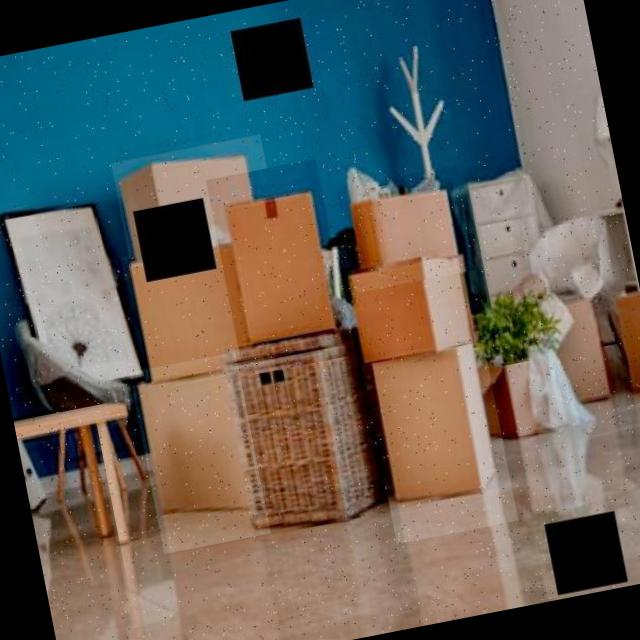box: (362, 342, 520, 545), (206, 159, 350, 360), (129, 352, 271, 554), (120, 234, 268, 397), (111, 134, 281, 269), (340, 244, 488, 386), (336, 164, 476, 294)
